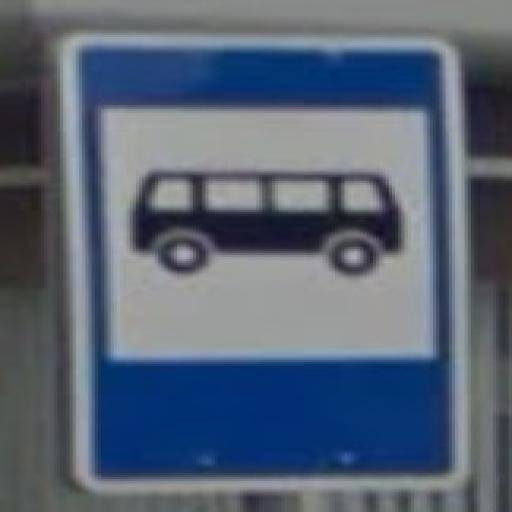traffic_sign: (55, 28, 481, 499)
